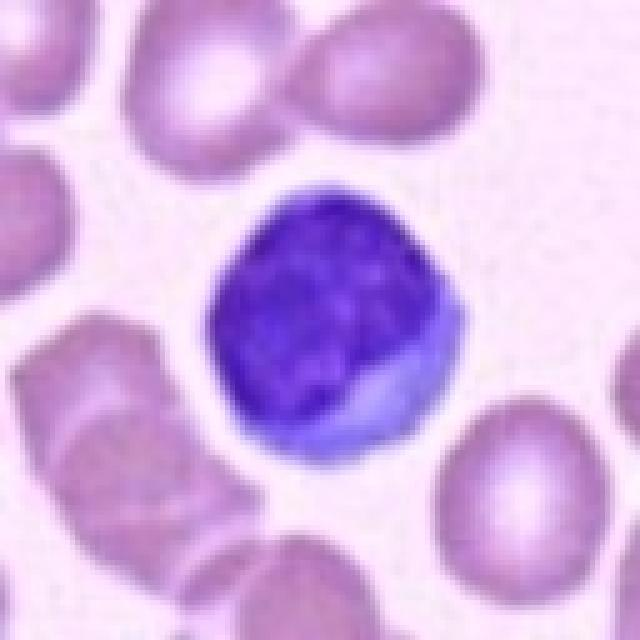lympho: (192, 168, 470, 472)
